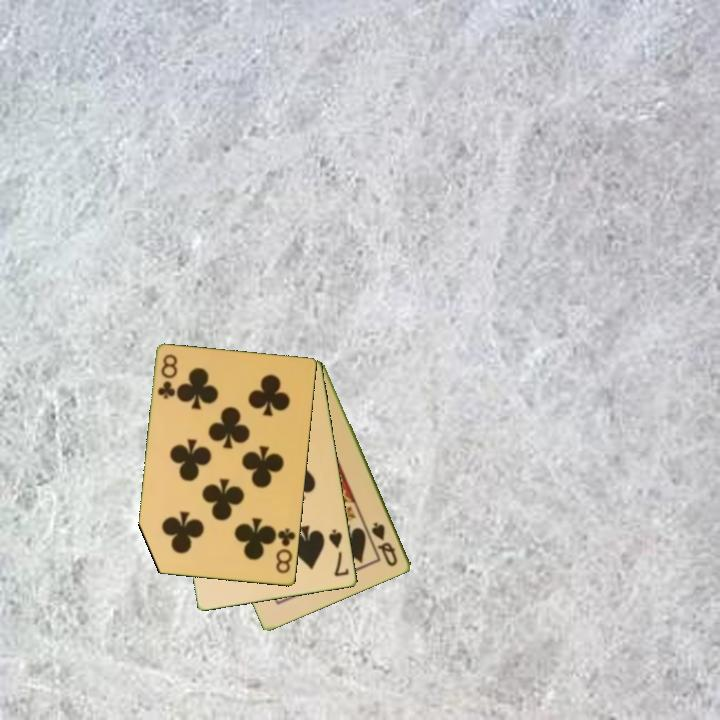7s: (326, 526, 352, 580)
8c: (154, 351, 180, 402), (273, 525, 298, 577)
Qs: (368, 519, 401, 570)
